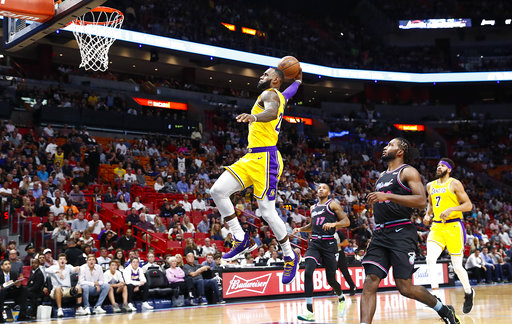basketball: (273, 53, 307, 85)
basketball_player: (212, 69, 307, 278), (357, 134, 435, 324), (422, 156, 484, 324), (297, 182, 350, 324)
basketball_rim: (76, 5, 128, 80)
